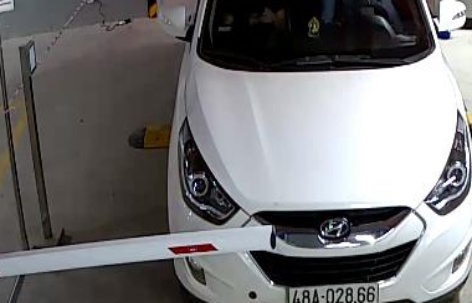plate: (280, 279, 384, 303)
